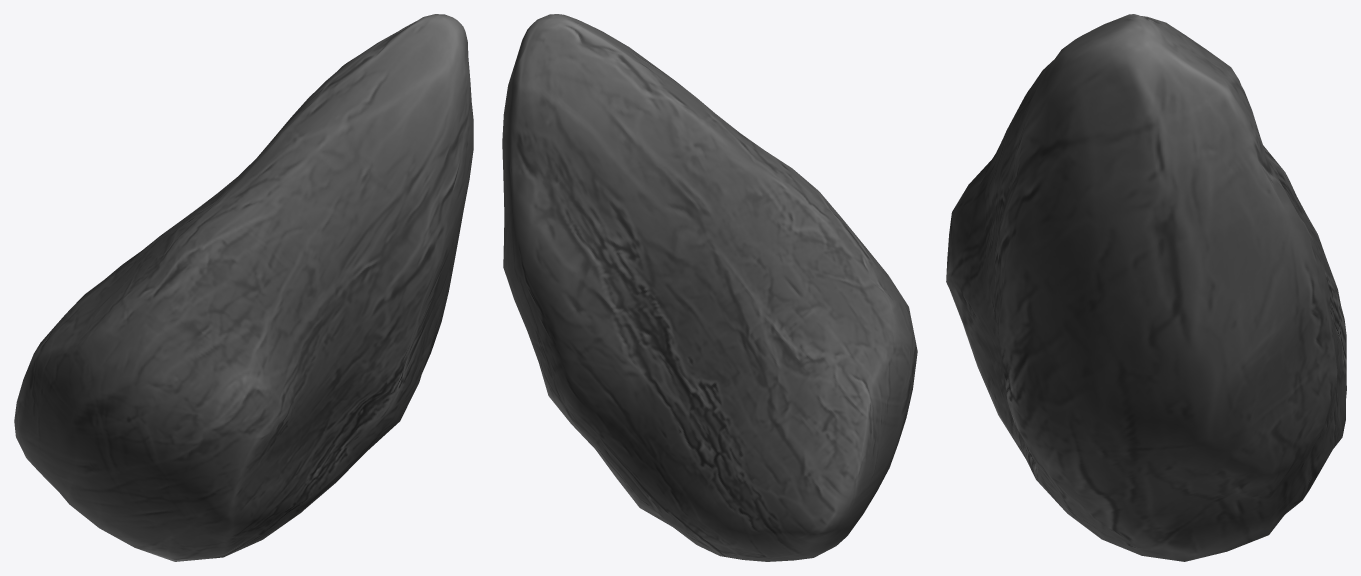
File: Rock02.FBX
3 views of the same model, side by side, from view 1: azimuth 30°, elevation 25°; view 2: azimuth 150°, elevation 25°; view 3: azimuth 270°, elevation 25° (orthographic). The views are drawn at different scales.
Visible parts, largest first — view 1: Rock02; view 2: Rock02; view 3: Rock02.
Part boxes in pixels (x1,y1,x2,y2): Rock02: (14,14,473,561); Rock02: (502,14,917,561); Rock02: (946,14,1346,561).
Bounding box in the file's own units: 8.69 × 10.01 × 5.47.
